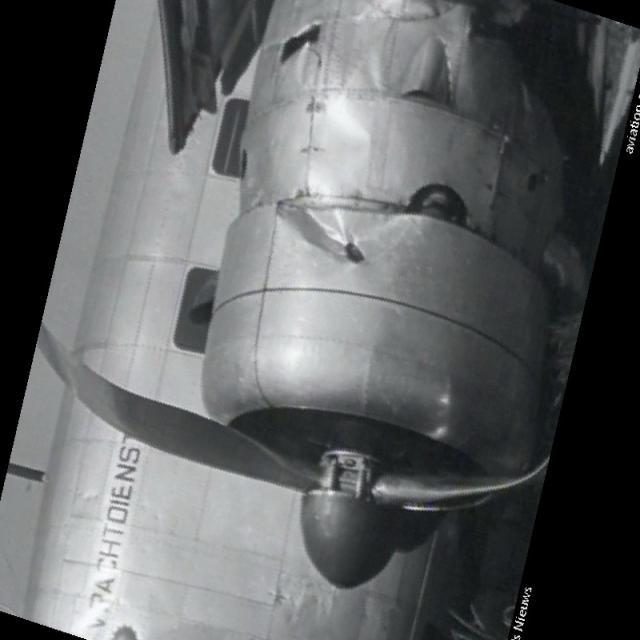dent: (301, 200, 408, 281)
